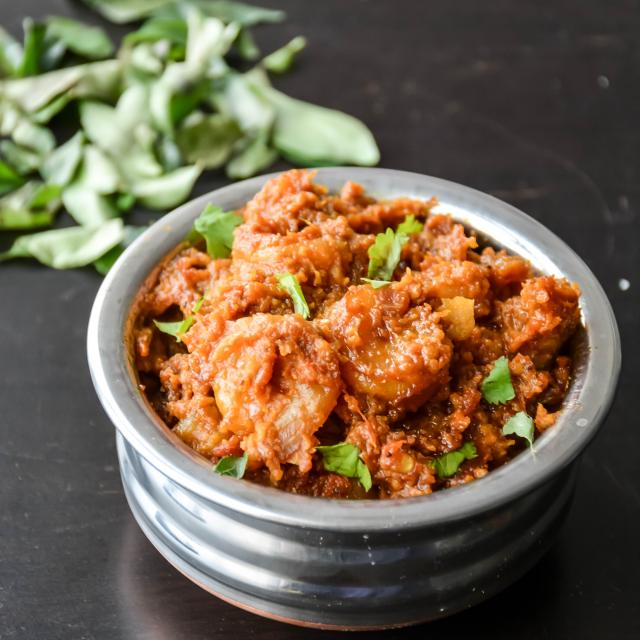prawn thokku: (131, 169, 573, 546)
